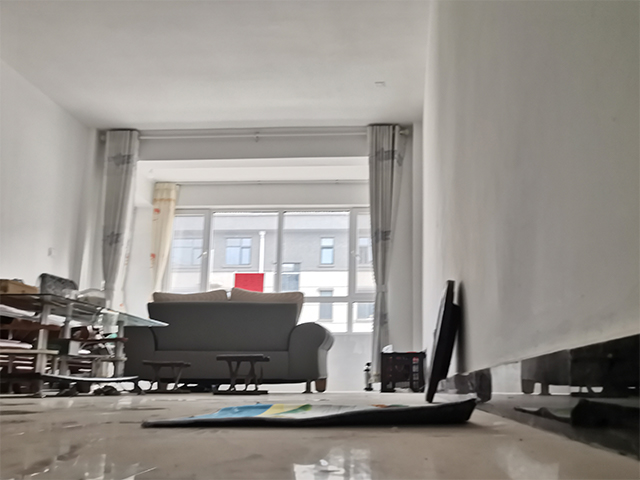carpet: (139, 396, 480, 429)
curtain: (365, 123, 403, 386), (103, 128, 140, 290), (147, 178, 174, 287)
sofa: (114, 285, 336, 395)
stool: (212, 353, 271, 397), (138, 359, 195, 394)
table: (1, 292, 171, 401)
